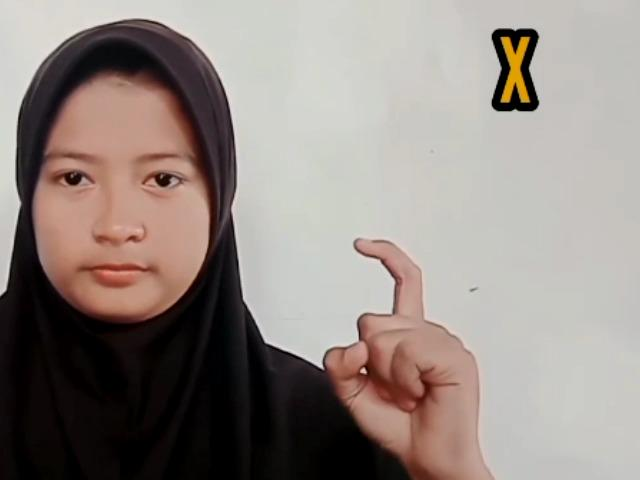X: (316, 222, 516, 466)
